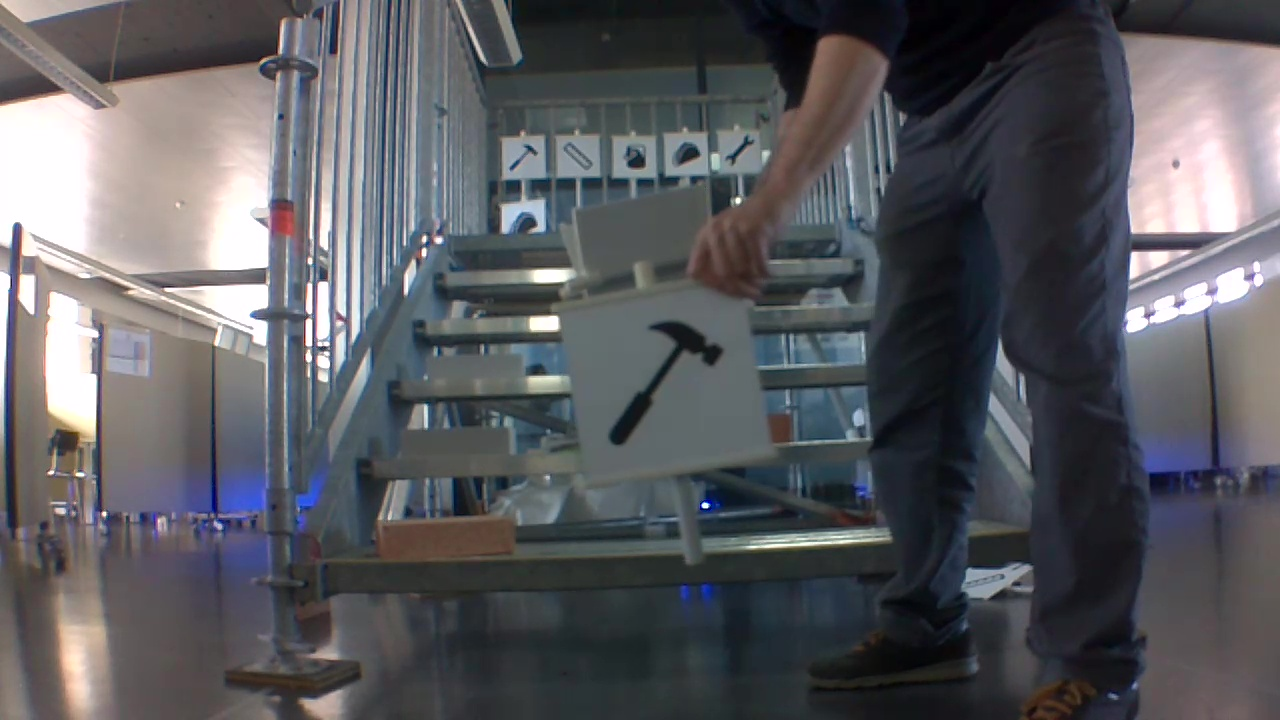brick: (365, 512, 526, 559), (402, 427, 521, 458), (425, 354, 527, 380)
bucket: (620, 140, 653, 171)
hammer: (606, 314, 728, 448), (508, 141, 542, 172)
ruler: (556, 136, 596, 172)
taco: (507, 207, 540, 234), (672, 138, 701, 168)
wrench: (727, 133, 759, 165)
